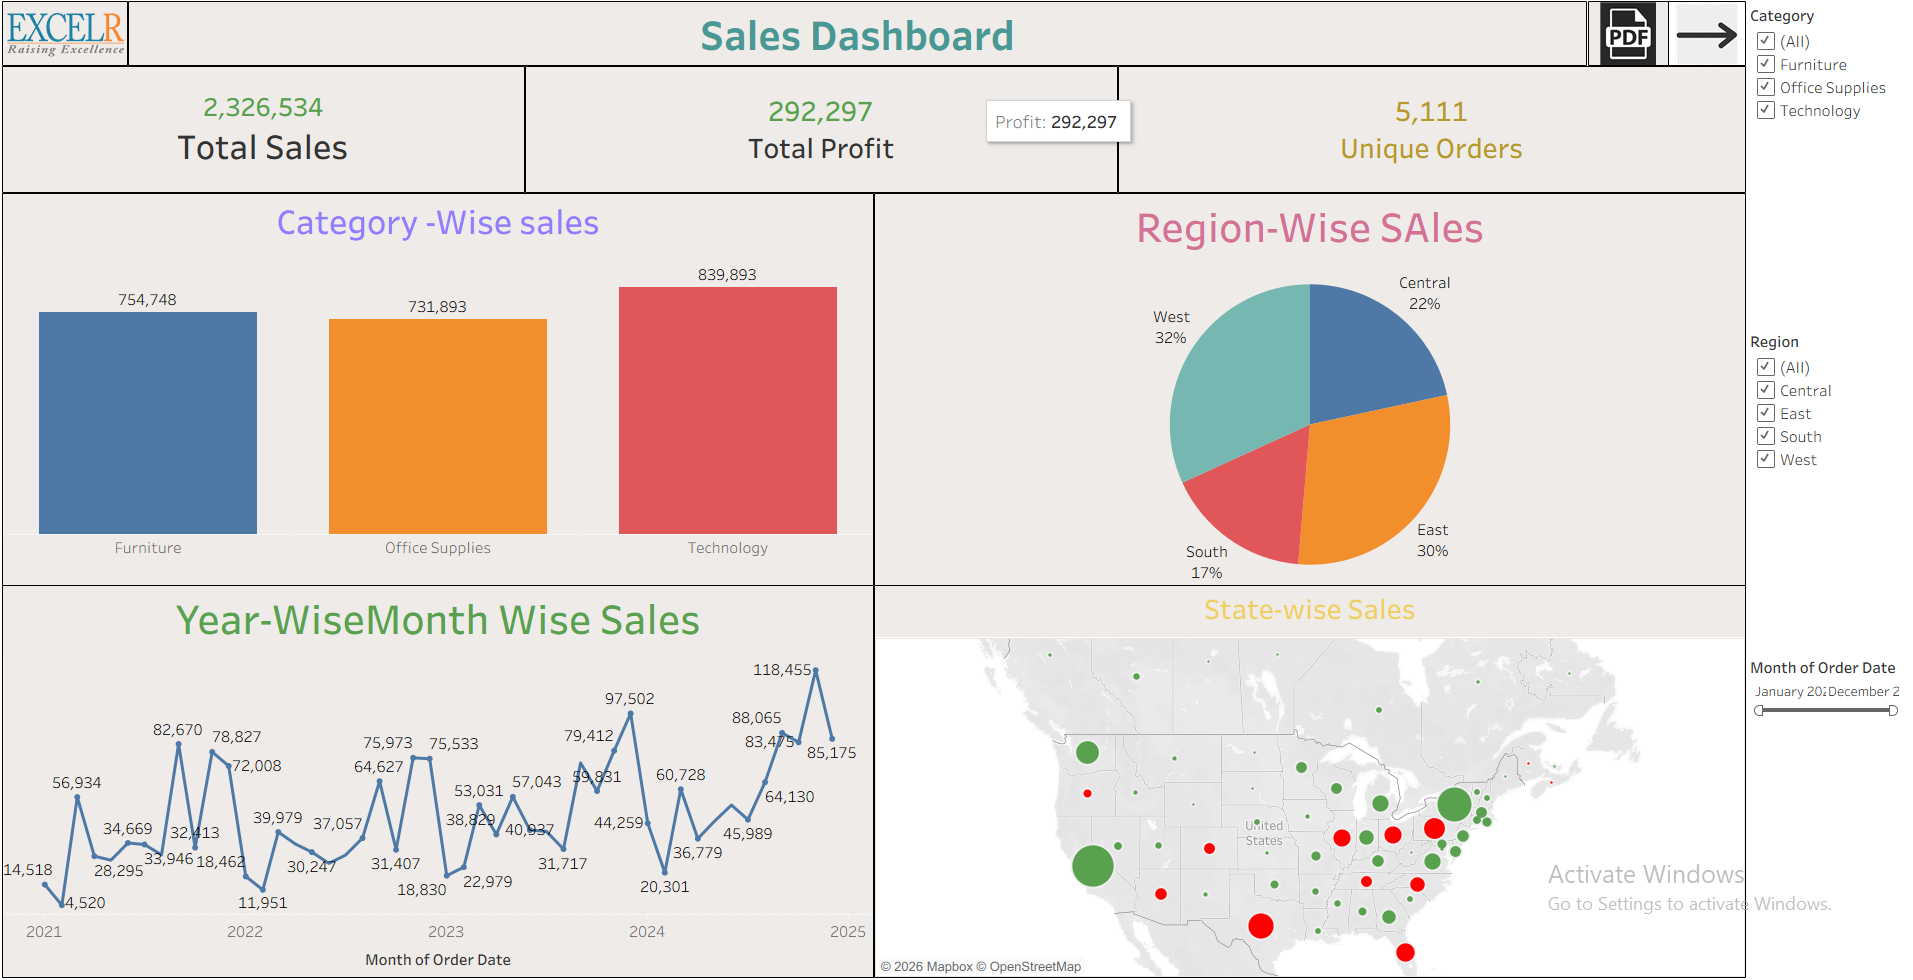

Layout of this report page (visuals, bound fields, positions):
{"tool":"tableau","page":{"name":"Dashboard 1","canvas":[1000,1000],"units":"permille","ordinal":0},"visuals":[{"type":"image","box":[4.8,10,64.8,64.8]},{"type":"text","box":[69.6,10,747.8,64.8]},{"type":"dashboard-object","box":[817.4,10,41.4,64.8]},{"type":"dashboard-object","box":[858.8,10,39.8,64.8]},{"type":"filter","title":"Bar chart","param":"[federated.11csfbj0hcxhjk1e597lv1dr4uvb].[none:Category:nk]","box":[898.6,10,96.6,327.1]},{"type":"worksheet","title":"Sales","mark":"Automatic","box":[4.8,74.8,268,127.4]},{"type":"worksheet","title":"Profit","mark":"Automatic","box":[272.8,74.8,303.9,127.4]},{"type":"worksheet","title":"orders","mark":"Automatic","box":[576.7,74.8,321.9,127.4]},{"type":"worksheet","title":"Bar chart","mark":"Automatic","rows":["Sales"],"cols":["Category"],"box":[4.8,202.2,446.9,393.9]},{"type":"worksheet","title":"Pie chart","mark":"Pie","box":[451.7,202.2,446.9,393.9]},{"type":"filter","title":"Pie chart","param":"[federated.11csfbj0hcxhjk1e597lv1dr4uvb].[none:Region:nk]","box":[898.6,337.1,96.6,327.1]},{"type":"worksheet","title":"Line chart","mark":"Automatic","rows":["Sales"],"cols":["Order Date"],"box":[4.8,596.1,446.9,393.9]},{"type":"worksheet","title":"Map","mark":"Automatic","box":[451.7,596.1,446.9,393.9]},{"type":"filter","title":"Line chart","param":"[federated.11csfbj0hcxhjk1e597lv1dr4uvb].[tmn:Order Date:qk]","box":[898.6,664.2,96.6,325.8]}]}

Visuals, with their boxes on the dashboard's canvas, which has no fixed pixel size, in thousandths of its width and height (x1, y1, x2, y2). These are canvas units, not pixel positions in the 1913x980 screenshot, which may show the page scaled, cropped or inside an application window:
image: region(5, 10, 70, 75)
text: region(70, 10, 817, 75)
dashboard-object: region(817, 10, 859, 75)
dashboard-object: region(859, 10, 899, 75)
"Bar chart" filter: region(899, 10, 995, 337)
"Sales" worksheet: region(5, 75, 273, 202)
"Profit" worksheet: region(273, 75, 577, 202)
"orders" worksheet: region(577, 75, 899, 202)
"Bar chart" worksheet: region(5, 202, 452, 596)
"Pie chart" worksheet (Pie marks): region(452, 202, 899, 596)
"Pie chart" filter: region(899, 337, 995, 664)
"Line chart" worksheet: region(5, 596, 452, 990)
"Map" worksheet: region(452, 596, 899, 990)
"Line chart" filter: region(899, 664, 995, 990)
